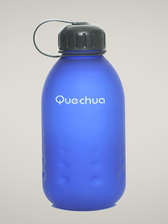other: (29, 18, 132, 210)
